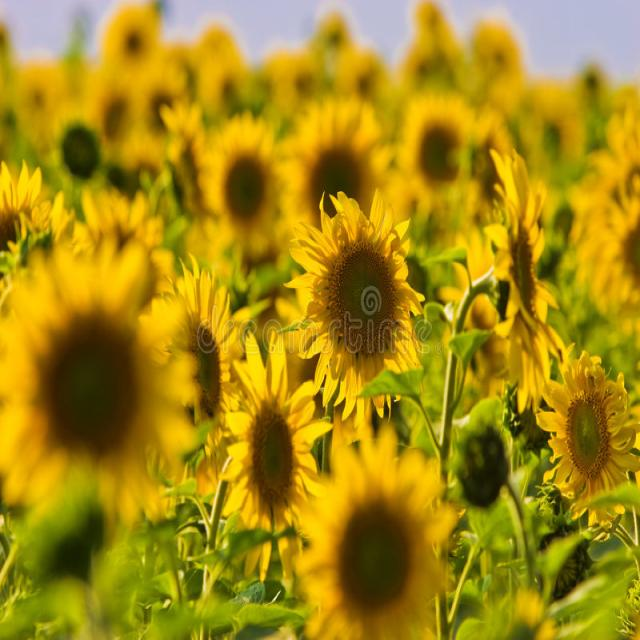sunflower: (7, 223, 181, 556), (265, 428, 458, 640), (274, 186, 439, 420), (537, 320, 640, 551), (482, 150, 563, 408), (268, 96, 387, 267), (190, 117, 288, 286), (395, 84, 469, 215)
